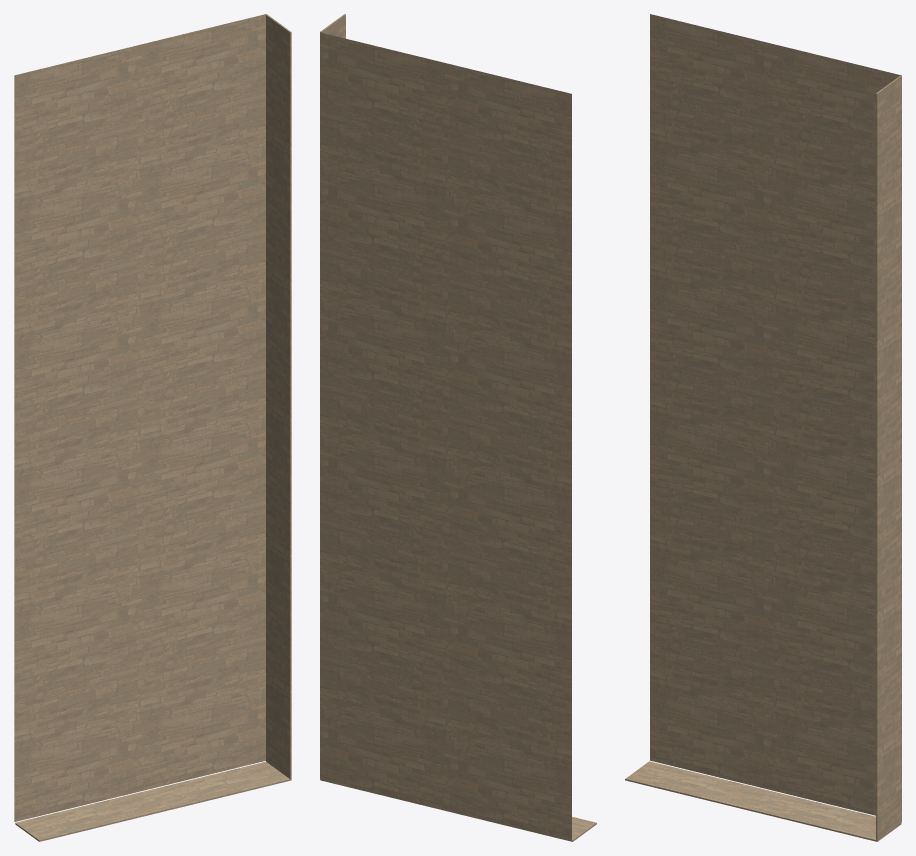
Rendered from rug-receivers-link-east-upper.glb.
The picture shows the model from 3 angles, left to right: view 1: azimuth 30°, elevation 25°; view 2: azimuth 150°, elevation 25°; view 3: azimuth 330°, elevation 25°; orthographic projection.
Parts seen in each view (by area): view 1: bz06_service_stone-cast; view 2: bz06_service_stone-cast; view 3: bz06_service_stone-cast.
Boxes of the visible parts, x1=… form: bz06_service_stone-cast: x1=14, y1=14, x2=291, y2=841; bz06_service_stone-cast: x1=320, y1=14, x2=596, y2=841; bz06_service_stone-cast: x1=625, y1=14, x2=901, y2=841.
Bounding box in the file's own units: 3.5 × 9.92 × 0.6.
Materials: 1 (1 with a texture image).
